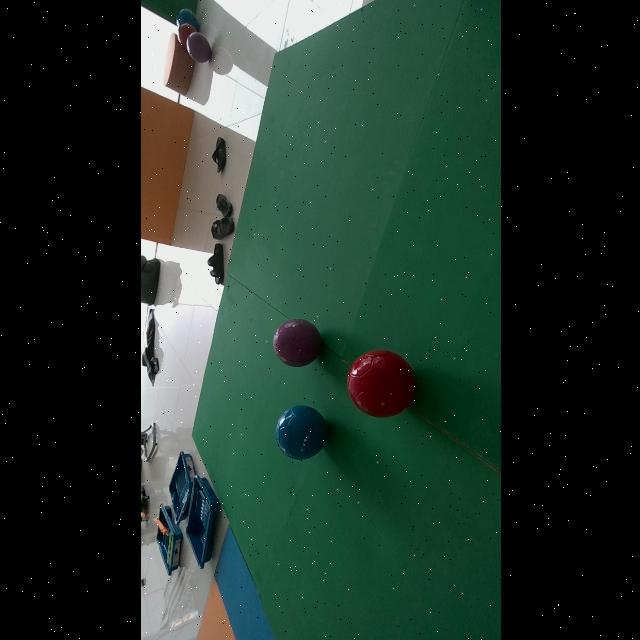B: (275, 405, 327, 460)
P: (272, 318, 321, 367)
R: (346, 349, 414, 418)
